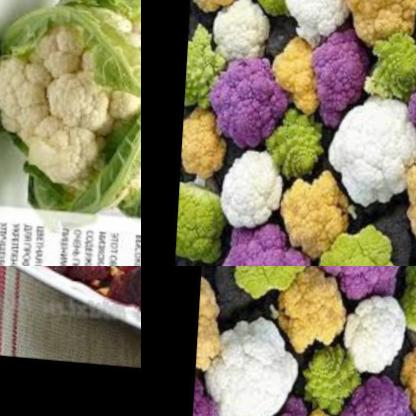beet: (58, 266, 141, 341)
cayliflower: (0, 0, 141, 204), (324, 81, 416, 210), (202, 305, 306, 416), (277, 163, 366, 259), (205, 51, 288, 149), (264, 266, 353, 352), (217, 139, 286, 225), (345, 290, 414, 376), (263, 106, 338, 185), (294, 330, 369, 409), (313, 209, 416, 266), (212, 211, 317, 266), (178, 176, 235, 266), (186, 9, 234, 114), (352, 24, 416, 101), (268, 36, 331, 113), (205, 0, 269, 65), (336, 0, 416, 52), (183, 103, 236, 181), (211, 266, 315, 304), (198, 274, 236, 377), (313, 266, 416, 303), (342, 365, 416, 416), (284, 0, 353, 41), (394, 138, 416, 241), (394, 334, 416, 412), (395, 266, 416, 338), (238, 0, 310, 20), (192, 378, 227, 416), (403, 39, 416, 136)
